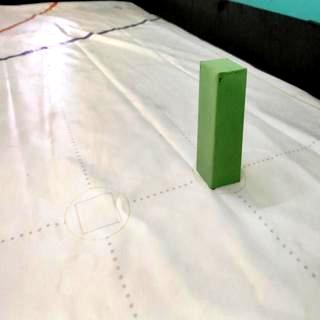greenbox: (198, 58, 248, 192)
